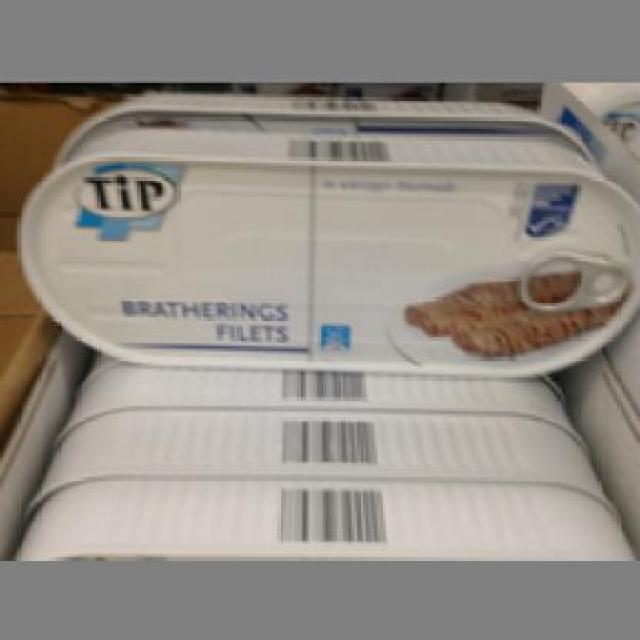Fish: (20, 125, 637, 368)
